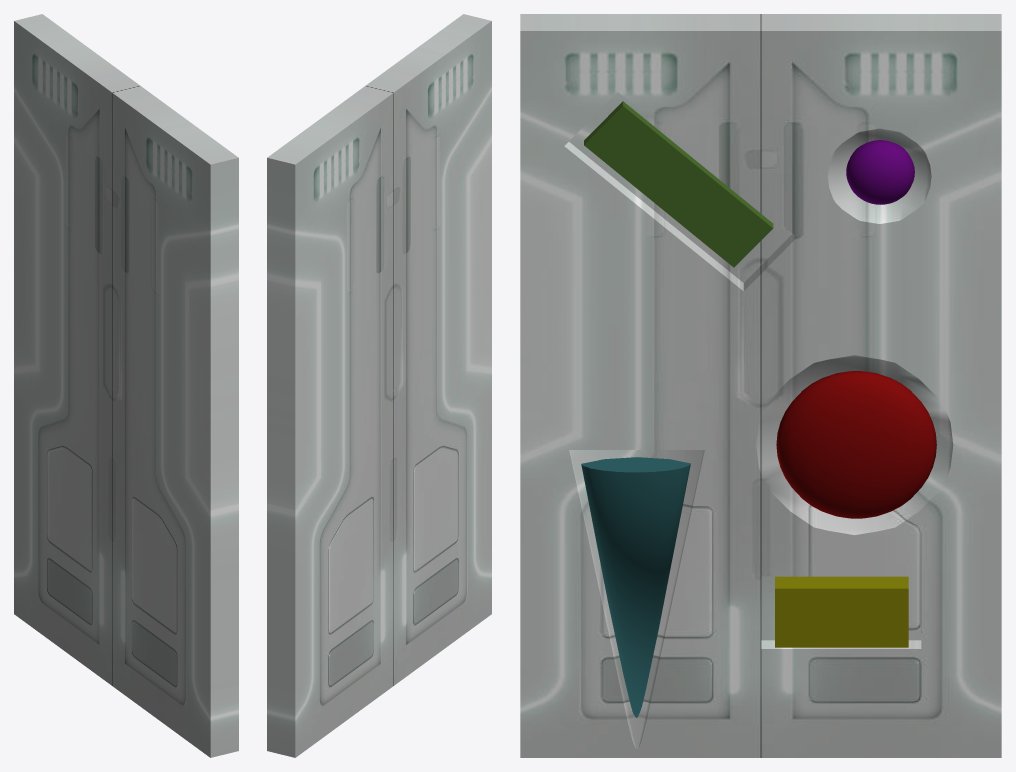
The model's file is BH-door2.fbx.
3 renders of one model, left to right at view 1: azimuth 30°, elevation 25°; view 2: azimuth 150°, elevation 25°; view 3: azimuth 270°, elevation 25°, orthographic. The views are drawn at different scales.
Parts seen in each view (by area): view 1: pCube8; view 2: pCube8; view 3: pCube8, pSphere4, pCone2, pCube9, pCube10, pSphere3.
Boxes of the visible parts, x1=… form: pCube8: x1=14, y1=14, x2=238, y2=757; pCube8: x1=267, y1=14, x2=491, y2=757; pCube8: x1=520, y1=14, x2=1001, y2=757; pSphere4: x1=776, y1=371, x2=936, y2=518; pCone2: x1=581, y1=457, x2=690, y2=717; pCube9: x1=584, y1=101, x2=773, y2=267; pCube10: x1=775, y1=576, x2=908, y2=647; pSphere3: x1=846, y1=140, x2=914, y2=204.
Bounding box in the file's own units: 0.8367 × 10 × 6.
6 materials, 1 textured.
